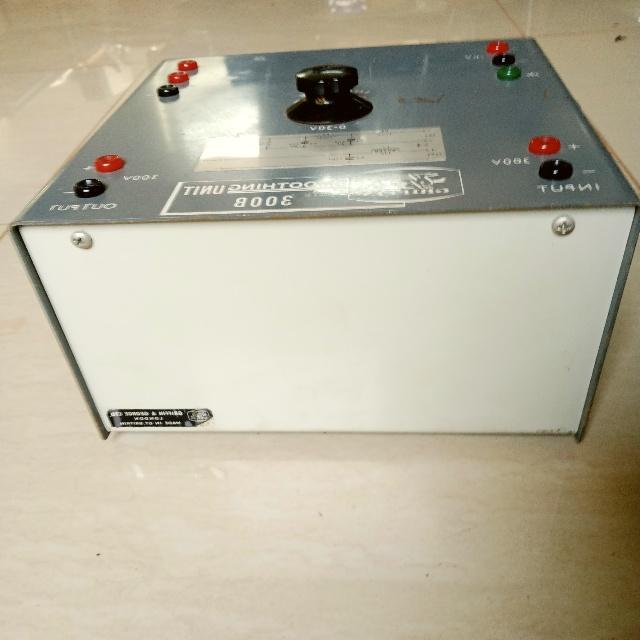Smoothing Unit: (5, 20, 640, 467)
